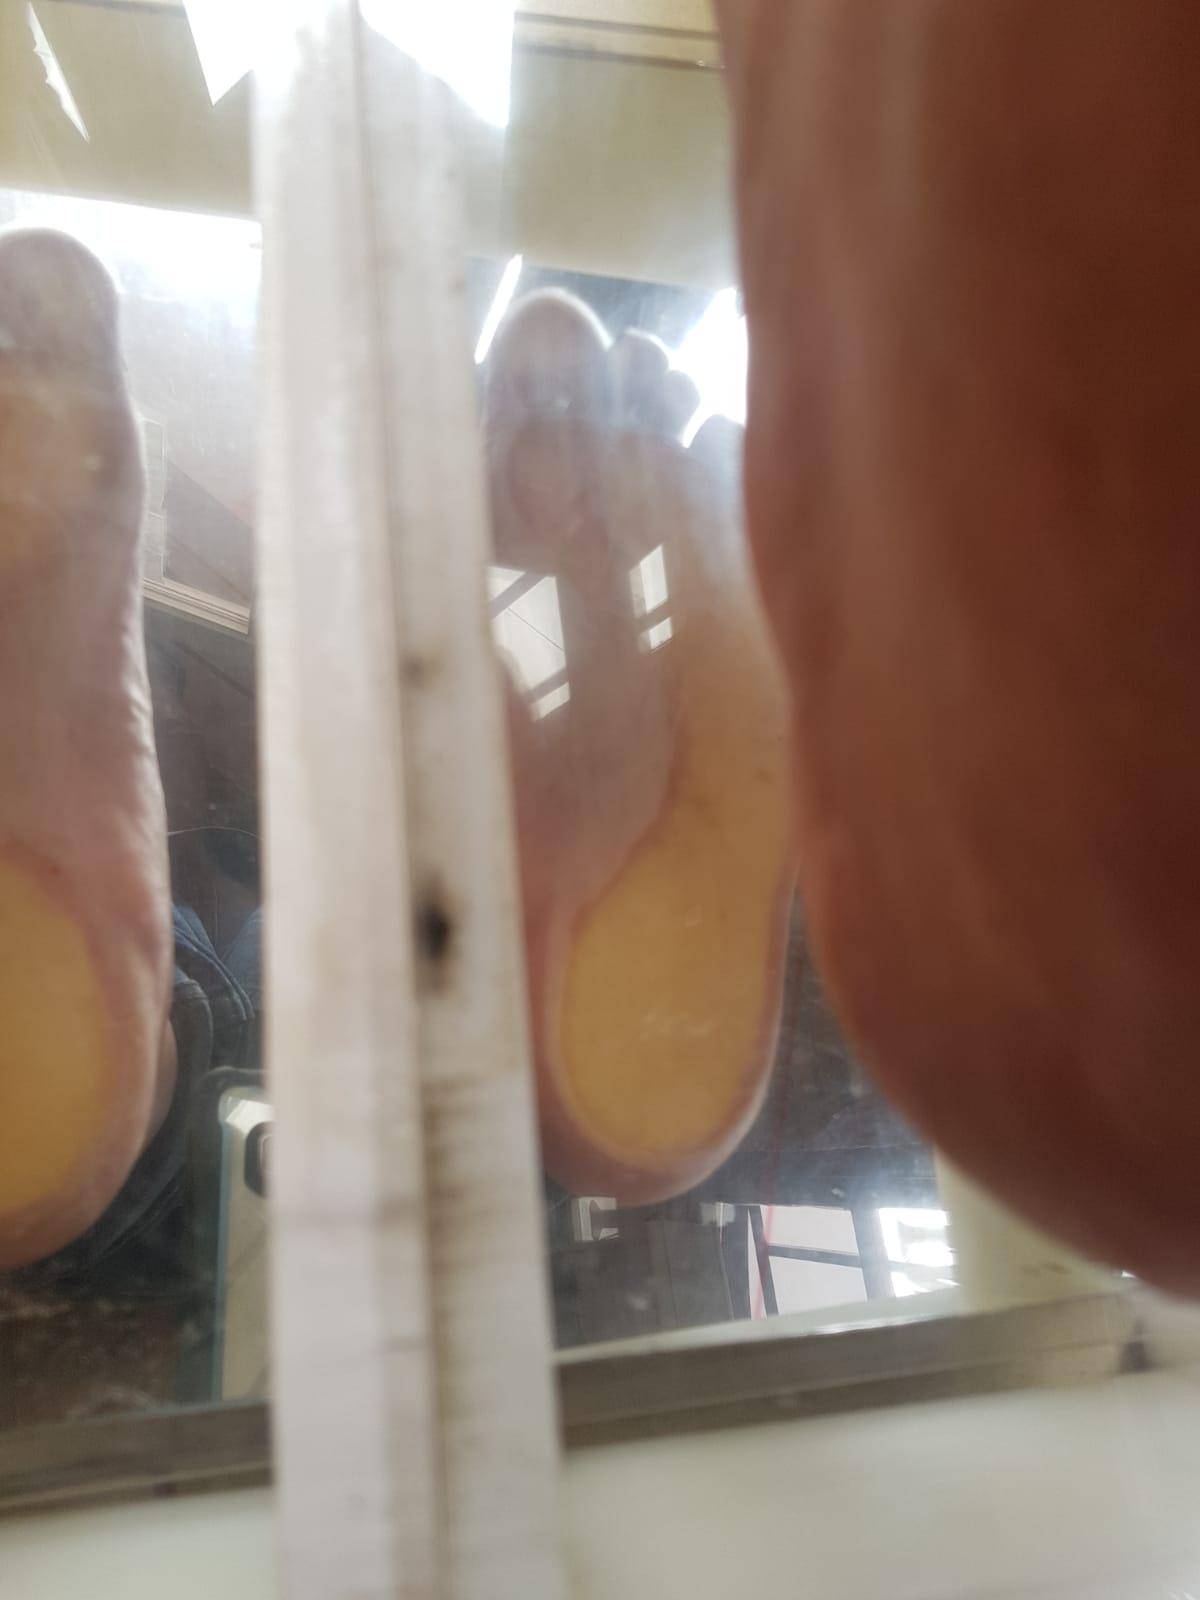Present: (475, 266, 809, 1216)
